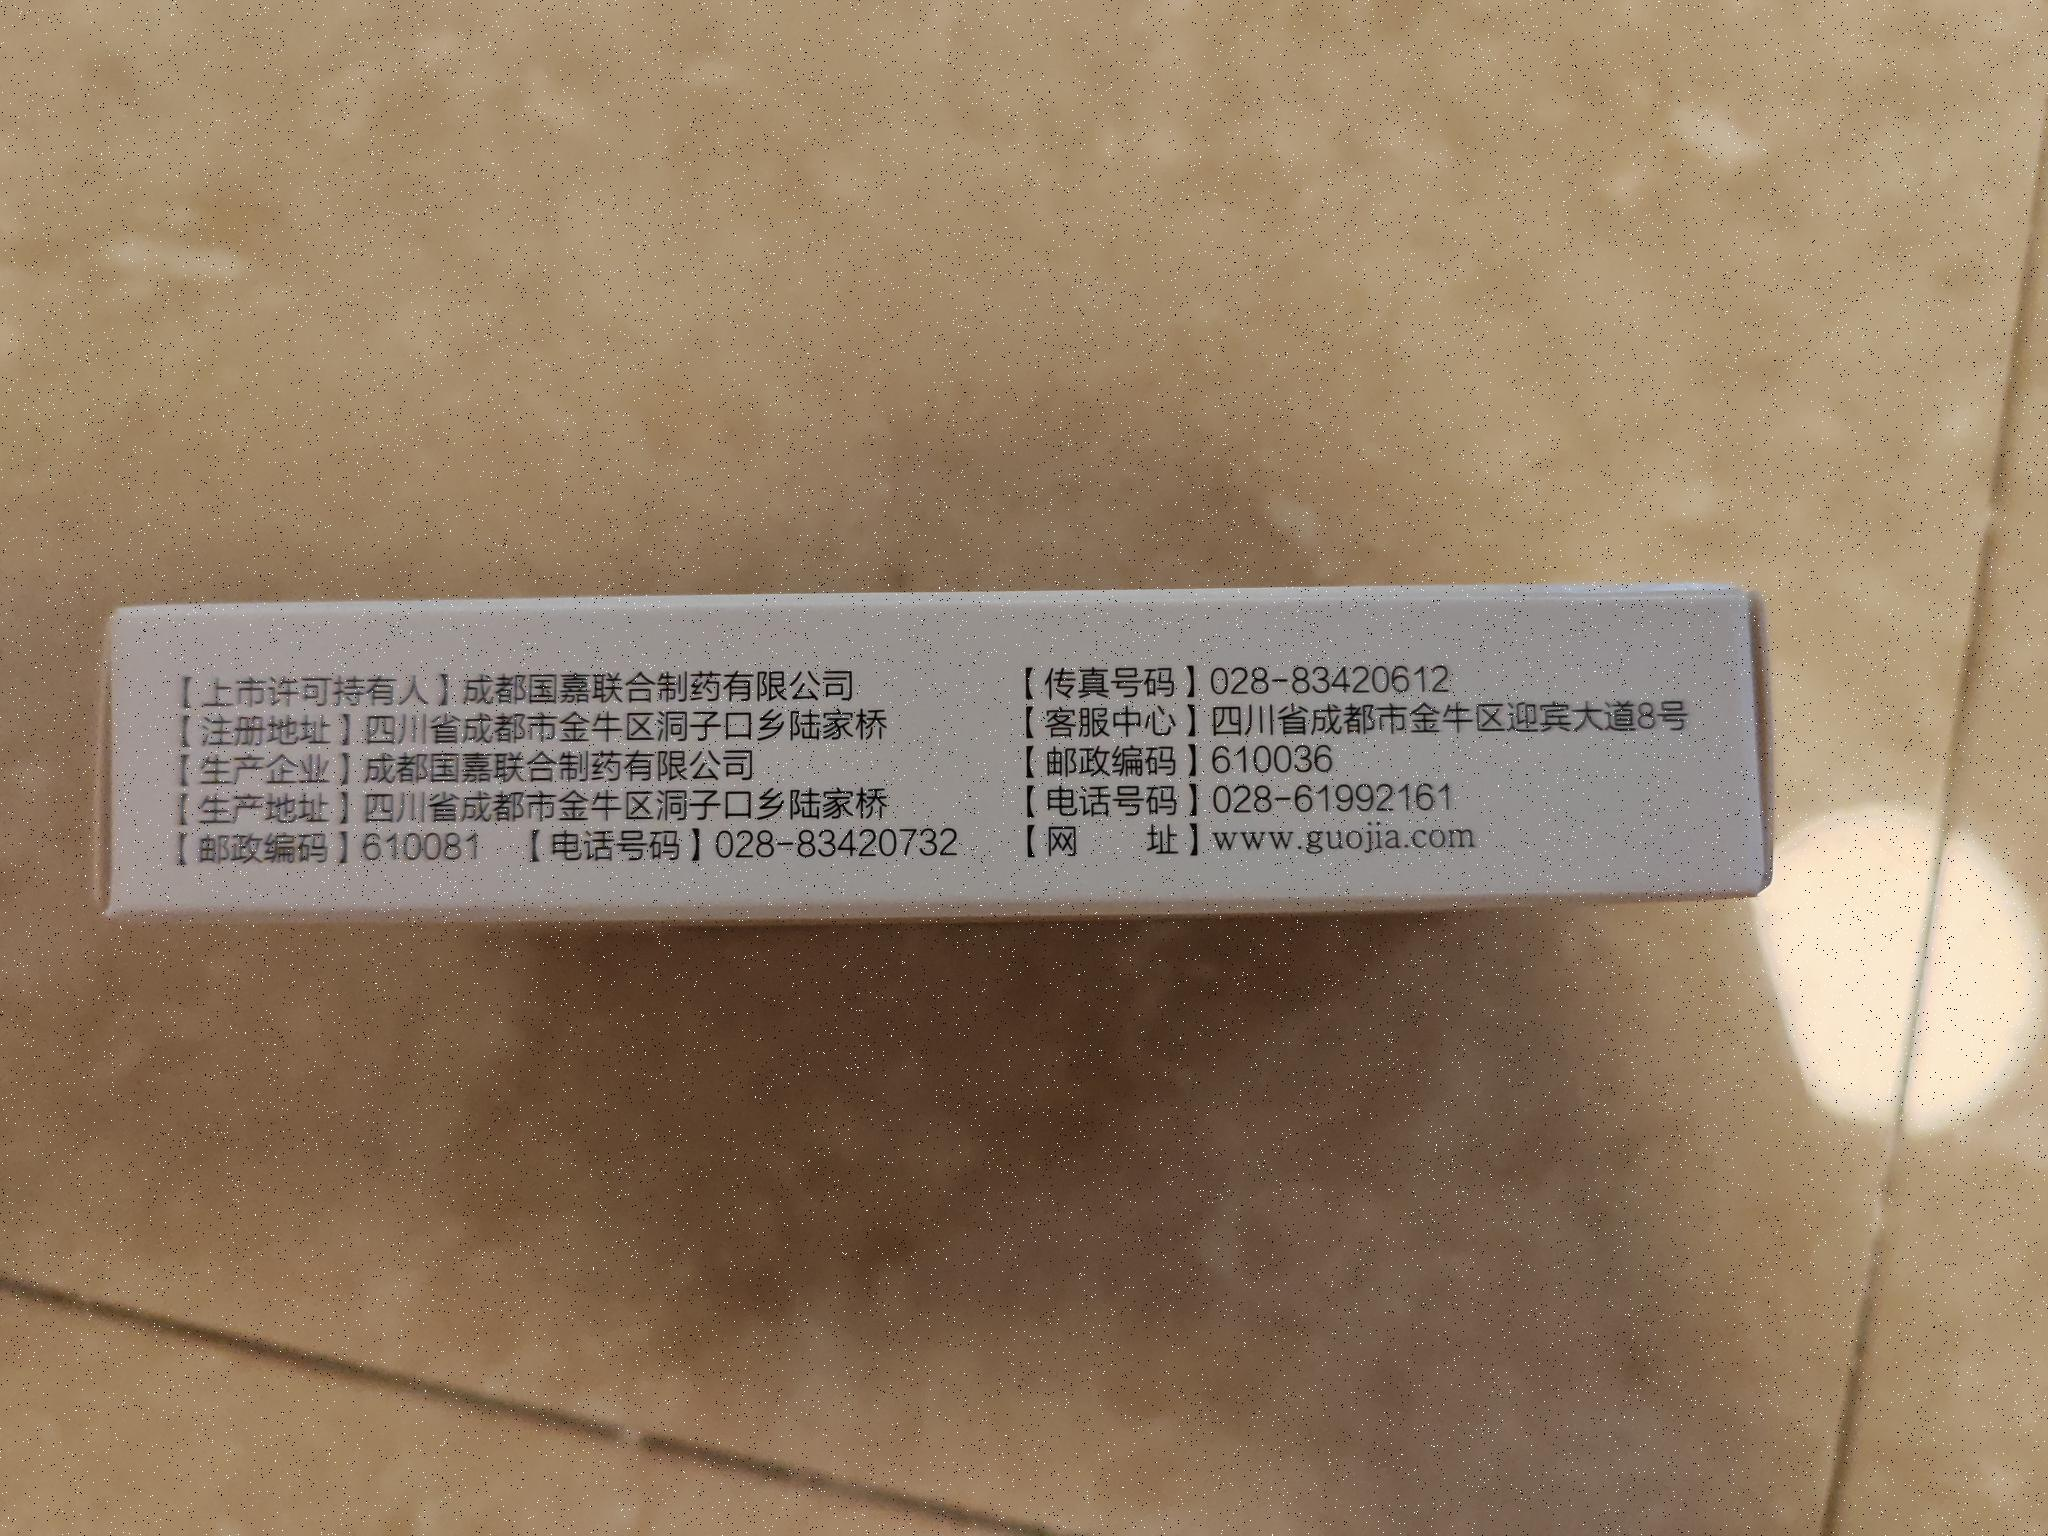Medicine4: (65, 565, 1804, 963)
